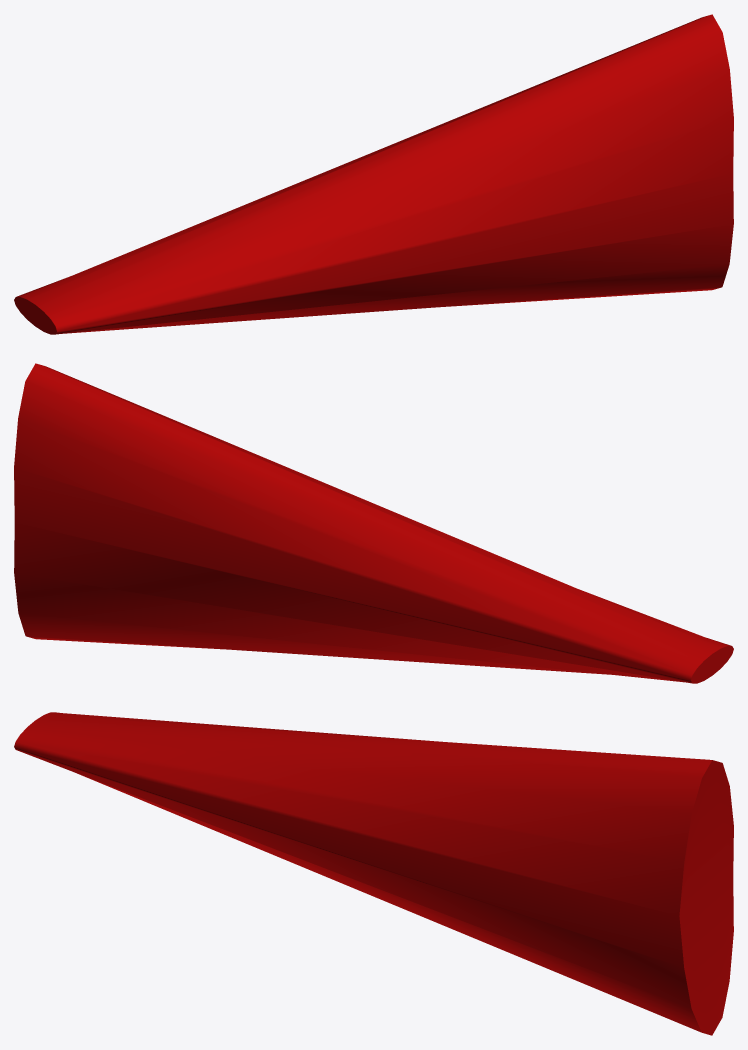
Rendered from needle.obj.
The picture shows the model from 3 angles, top to bottom: view 1: azimuth 30°, elevation 25°; view 2: azimuth 150°, elevation 25°; view 3: azimuth 330°, elevation 25°; orthographic projection.
Parts seen in each view (by area): view 1: needle; view 2: needle; view 3: needle.
Boxes of the visible parts, x1,y1,x2,y2 form: needle: (14, 14, 733, 334); needle: (14, 363, 733, 683); needle: (14, 712, 733, 1035).
Bounding box in the file's own units: 14.61 × 5.69 × 2.01.
1 material, 1 textured.
